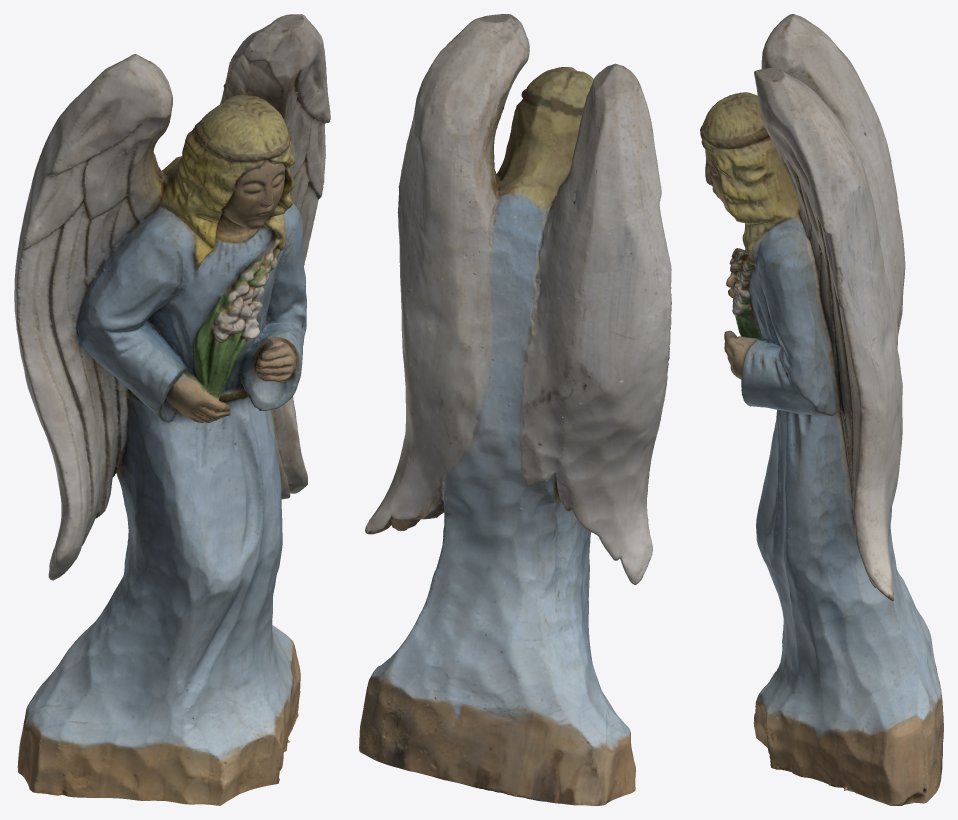
File: MPLW_E_1271_lowpoly.glb
3 views of the same model, side by side, from view 1: azimuth 30°, elevation 25°; view 2: azimuth 150°, elevation 25°; view 3: azimuth 270°, elevation 25° (orthographic). The views are drawn at different scales.
Parts seen in each view (by area): view 1: MPLW_E_1271_lowpoly; view 2: MPLW_E_1271_lowpoly; view 3: MPLW_E_1271_lowpoly.
Boxes of the visible parts, x1=… form: MPLW_E_1271_lowpoly: x1=14, y1=14, x2=330, y2=805; MPLW_E_1271_lowpoly: x1=359, y1=14, x2=671, y2=805; MPLW_E_1271_lowpoly: x1=700, y1=14, x2=943, y2=805.
Size of the model in its own units: 0.1855 by 0.4327 by 0.1366.
Materials: 1 (1 with a texture image).
